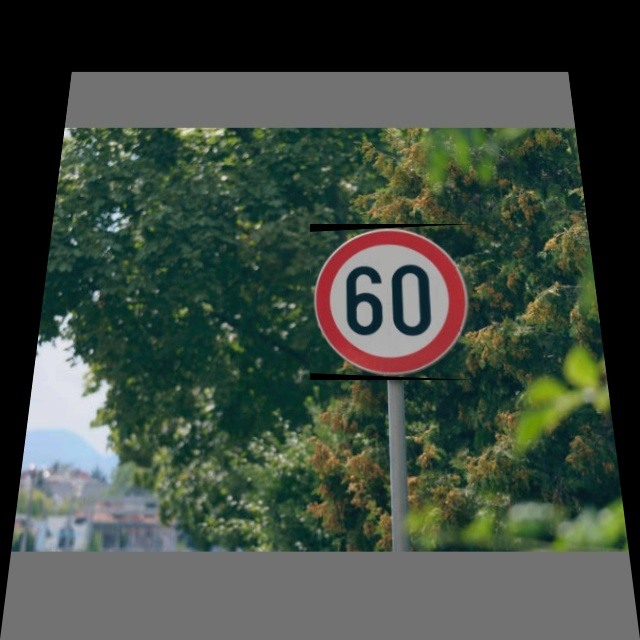Speed_Limit_60: (310, 224, 473, 380)
